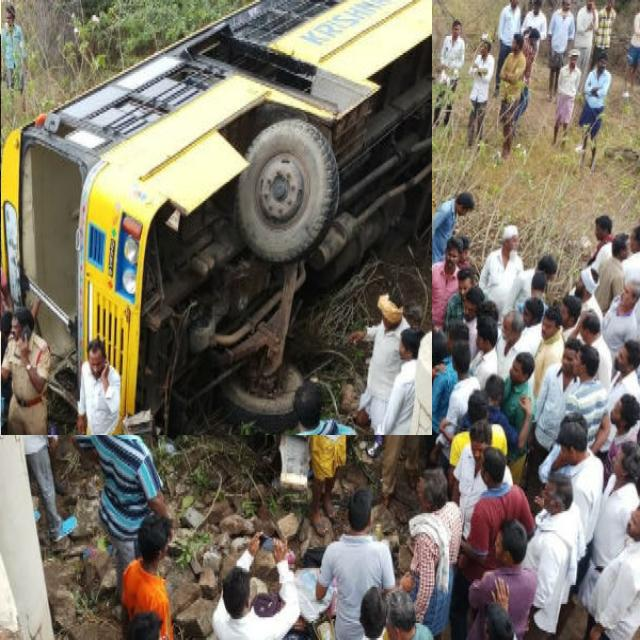accident: (1, 0, 431, 435)
